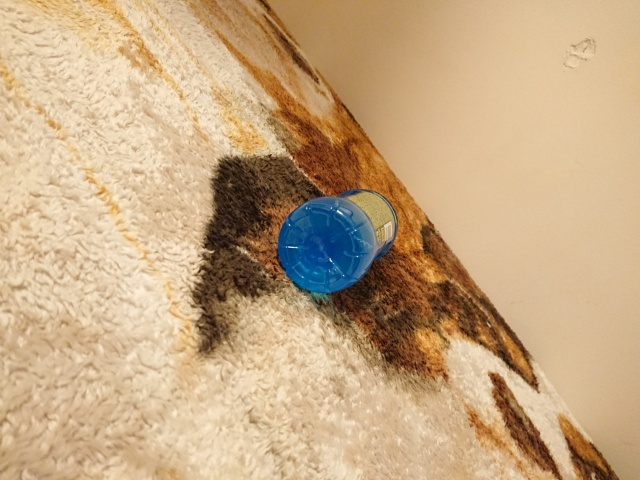Vindi Iso Sport Forest Strawberries 500mL: (275, 186, 399, 295)
